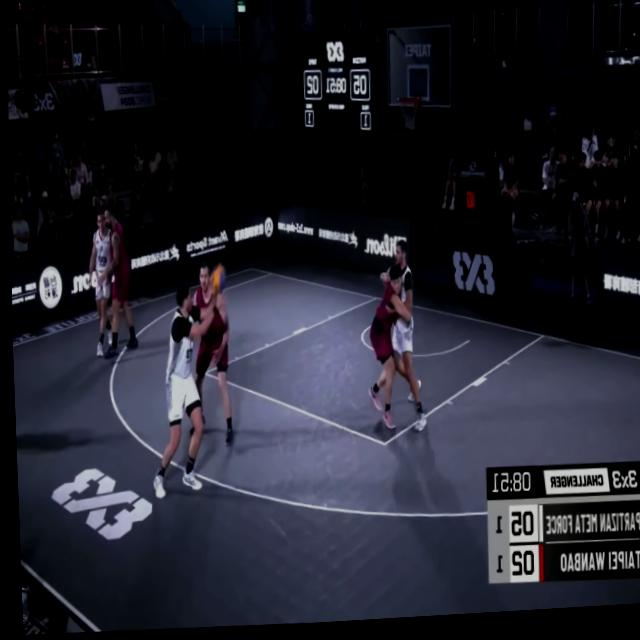ball: (206, 257, 226, 298)
hoop: (395, 95, 420, 140)
player: (144, 283, 227, 503), (356, 266, 413, 436), (384, 239, 428, 441), (188, 266, 234, 445), (96, 203, 139, 357), (84, 209, 115, 354)
